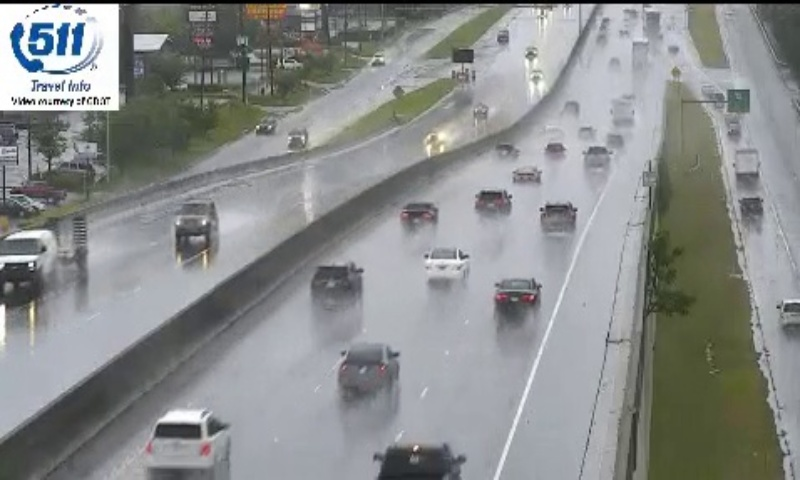car: (143, 409, 229, 470), (338, 344, 398, 394), (311, 262, 363, 304), (425, 249, 468, 283), (493, 280, 538, 312), (538, 201, 577, 232), (475, 188, 512, 217), (400, 201, 438, 228)
